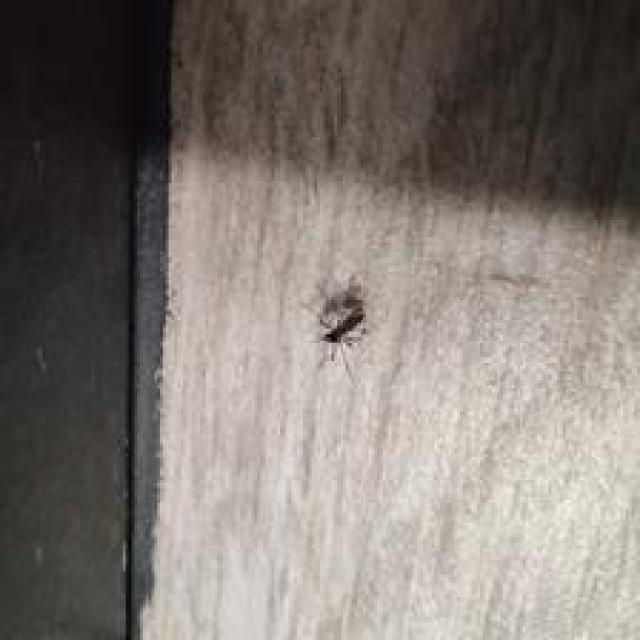Aedes albopictus: (312, 274, 368, 380)
